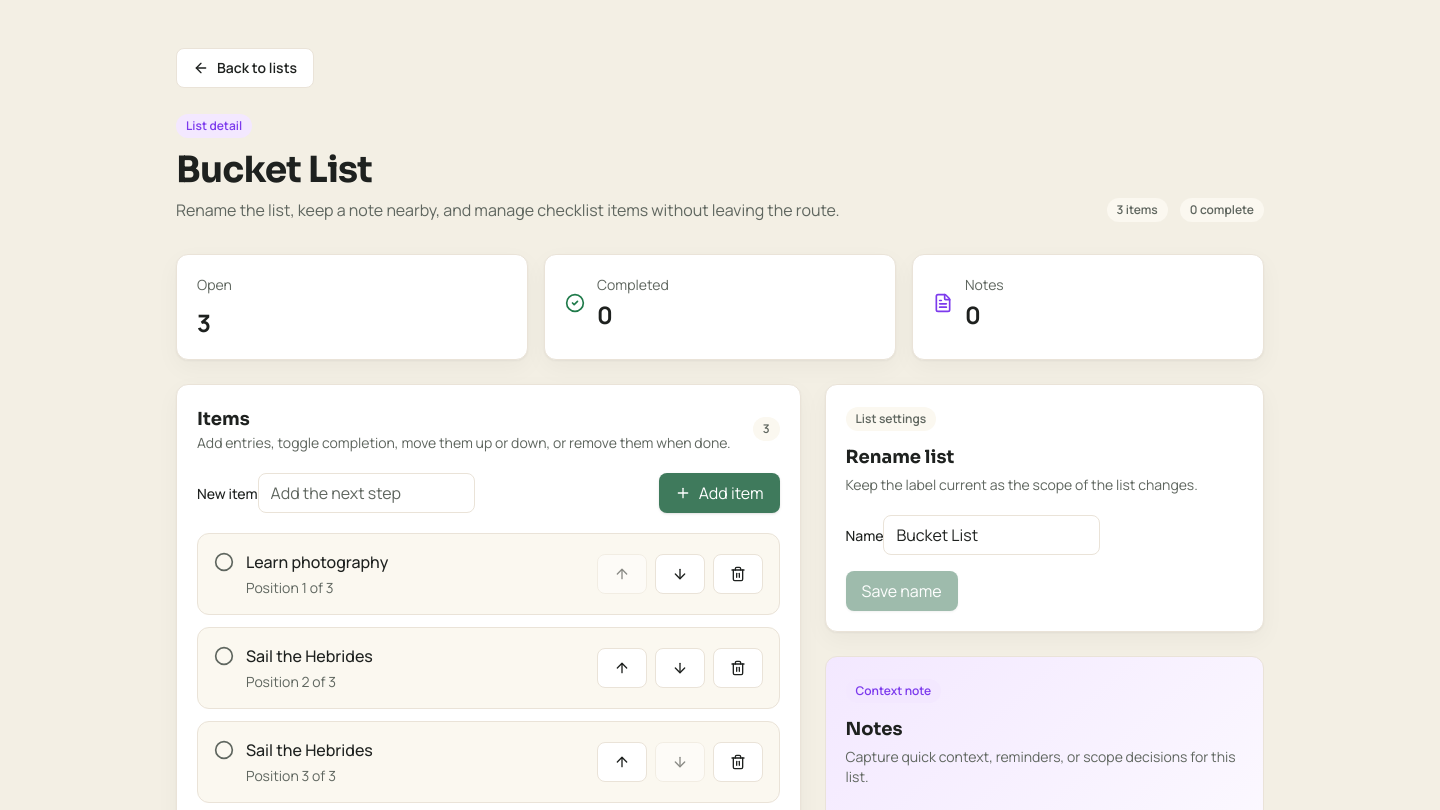
Test: ListDetailPage — renaming and notes › renames the list, updating the heading and the store
Replace the text in the field labelled "Name" with "Someday list" at (992, 535), box [883,515,1100,555]
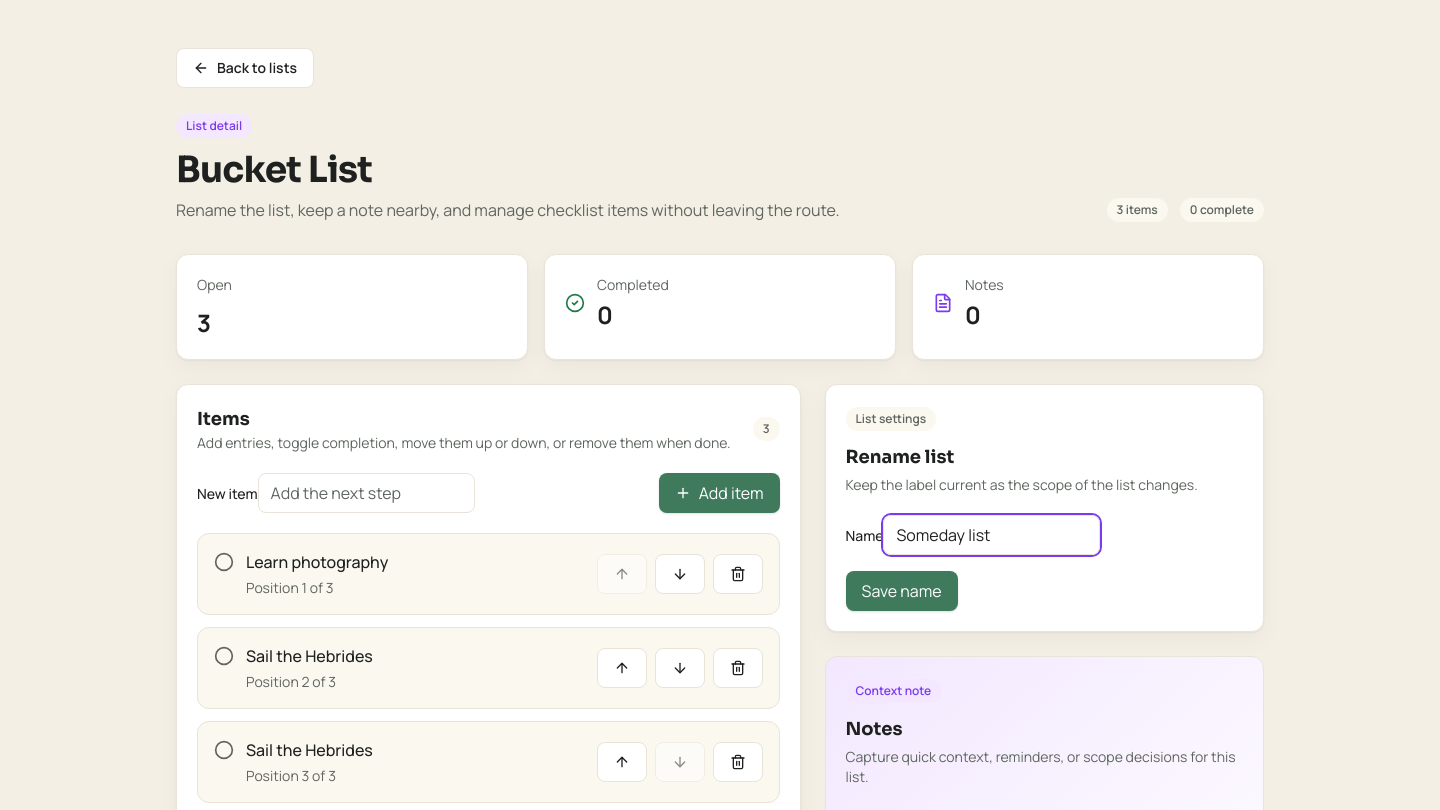
Click the button "Save name" at (902, 591), box [846,571,958,611]
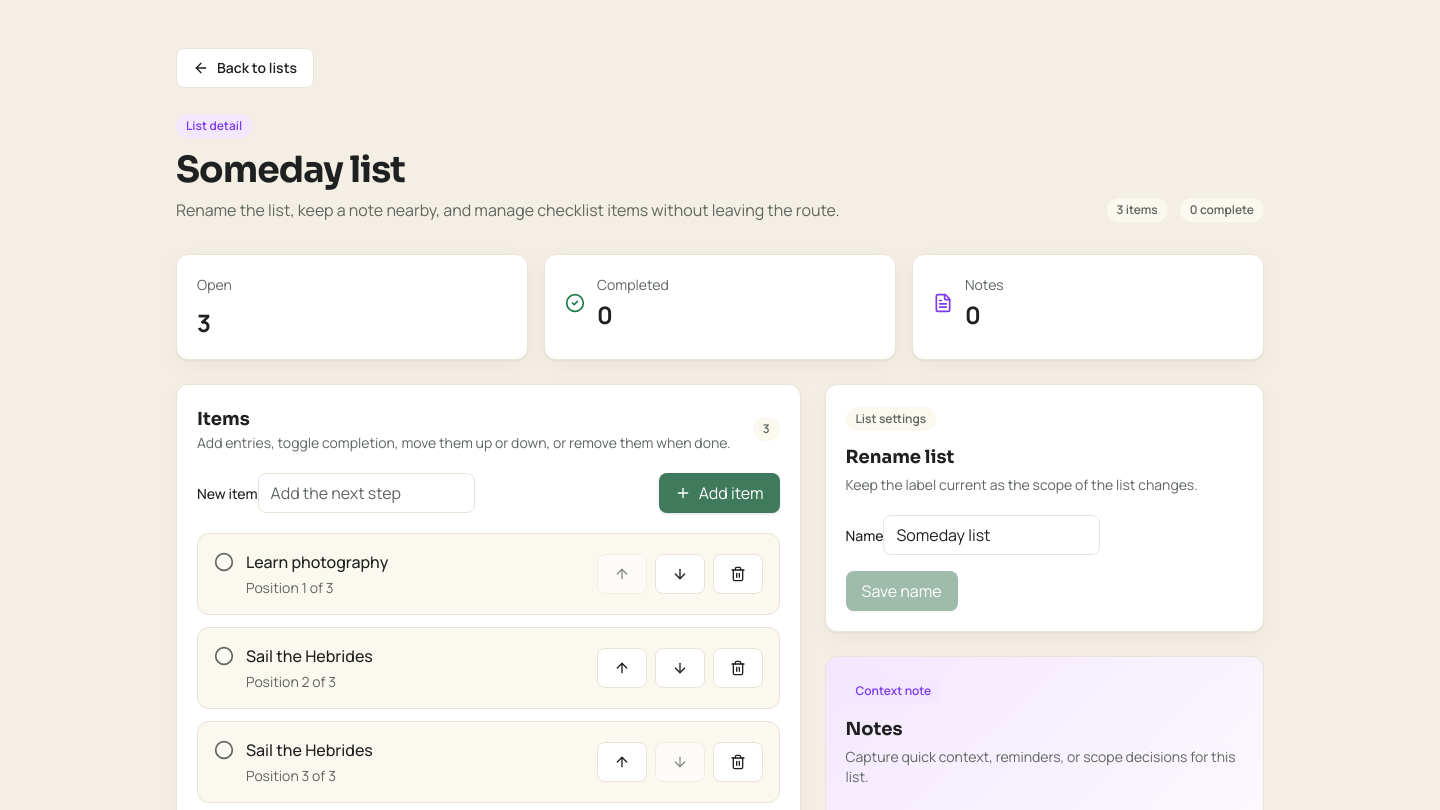
Now the heading "Someday list" is shown, box [176,147,405,192]
